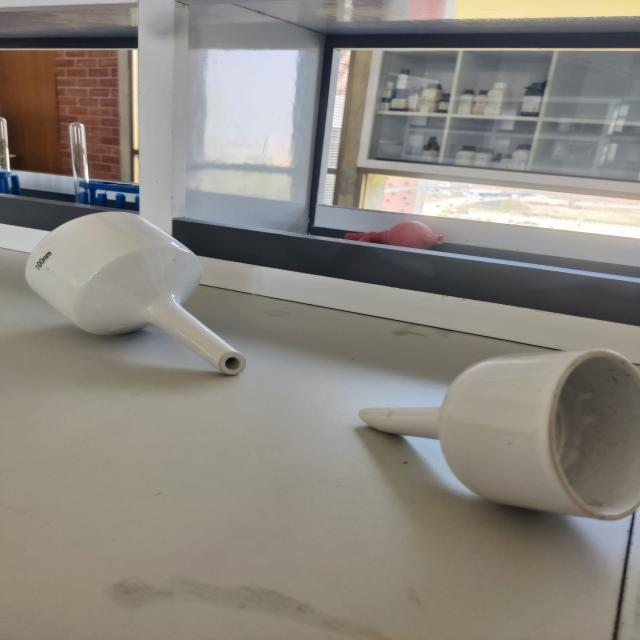Buchner_Funnel: (342, 338, 640, 549), (15, 172, 277, 402)
